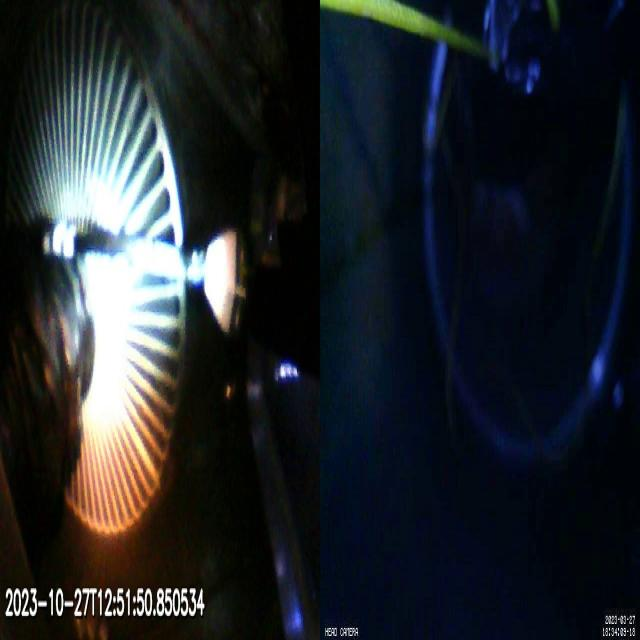head: (204, 232, 262, 332)
white-dots: (43, 223, 76, 259)
